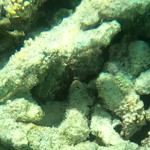dead: (10, 10, 142, 148)
